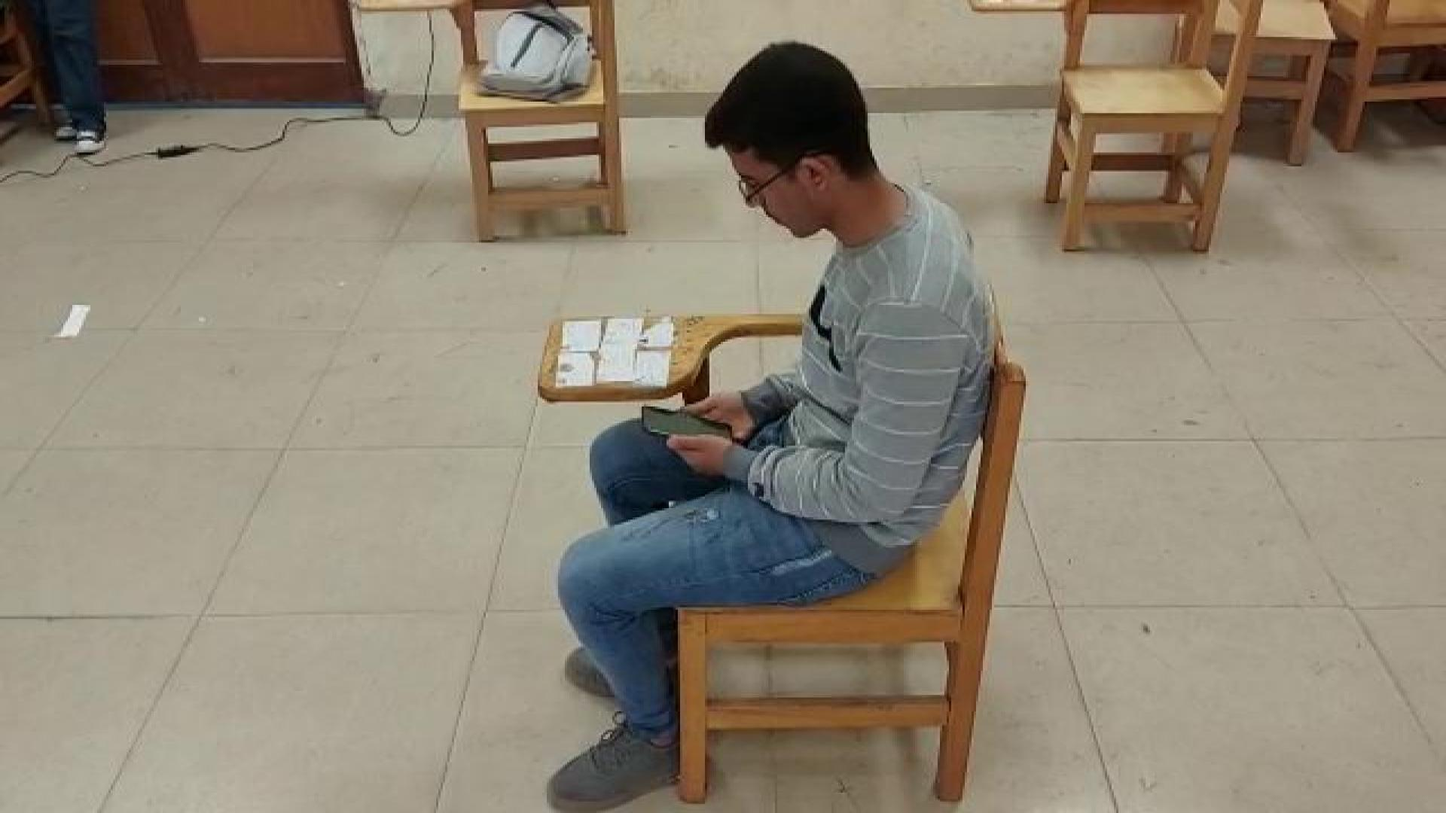phone: (635, 397, 739, 448)
